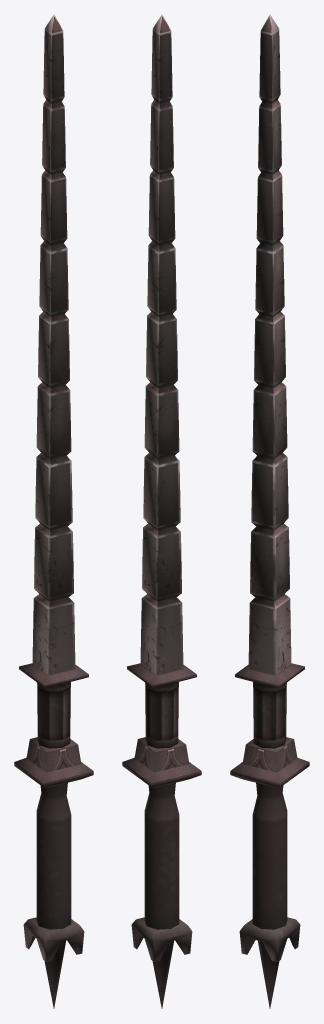
Rendered from Weapon_QuYanGun_fbx.FBX.
The picture shows the model from 3 angles, left to right: view 1: azimuth 30°, elevation 25°; view 2: azimuth 210°, elevation 25°; view 3: azimuth 330°, elevation 25°; orthographic projection.
Visible parts, largest first — view 1: QuYanGun; view 2: QuYanGun; view 3: QuYanGun.
Part boxes in pixels (x1,y1,x2,y2): QuYanGun: [14, 14, 93, 1008]; QuYanGun: [122, 14, 201, 1008]; QuYanGun: [230, 14, 309, 1008].
Size of the model in its own units: 0.0441 by 0.8317 by 0.0441.
